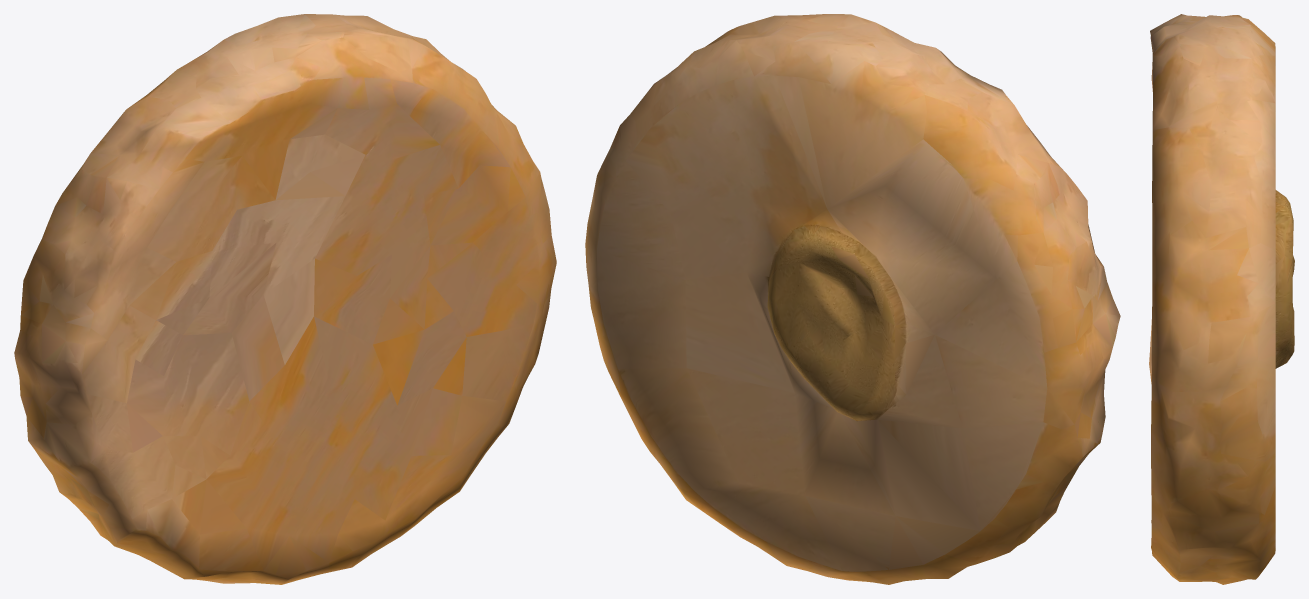
File: tumulo_pedra.glb
The picture shows the model from 3 angles, left to right: view 1: azimuth 30°, elevation 25°; view 2: azimuth 150°, elevation 25°; view 3: azimuth 270°, elevation 25°; orthographic projection. The views are drawn at different scales.
Parts seen in each view (by area): view 1: Tumulo_Pedra; view 2: Tumulo_Pedra; view 3: Tumulo_Pedra.
Part boxes in pixels (left/top/right/bottom): Tumulo_Pedra: left=14, top=14, right=556, bottom=584; Tumulo_Pedra: left=585, top=14, right=1120, bottom=584; Tumulo_Pedra: left=1149, top=14, right=1294, bottom=584.
Size of the model in its own units: 2.04 by 2.05 by 0.5205.
1 material, 1 textured.
